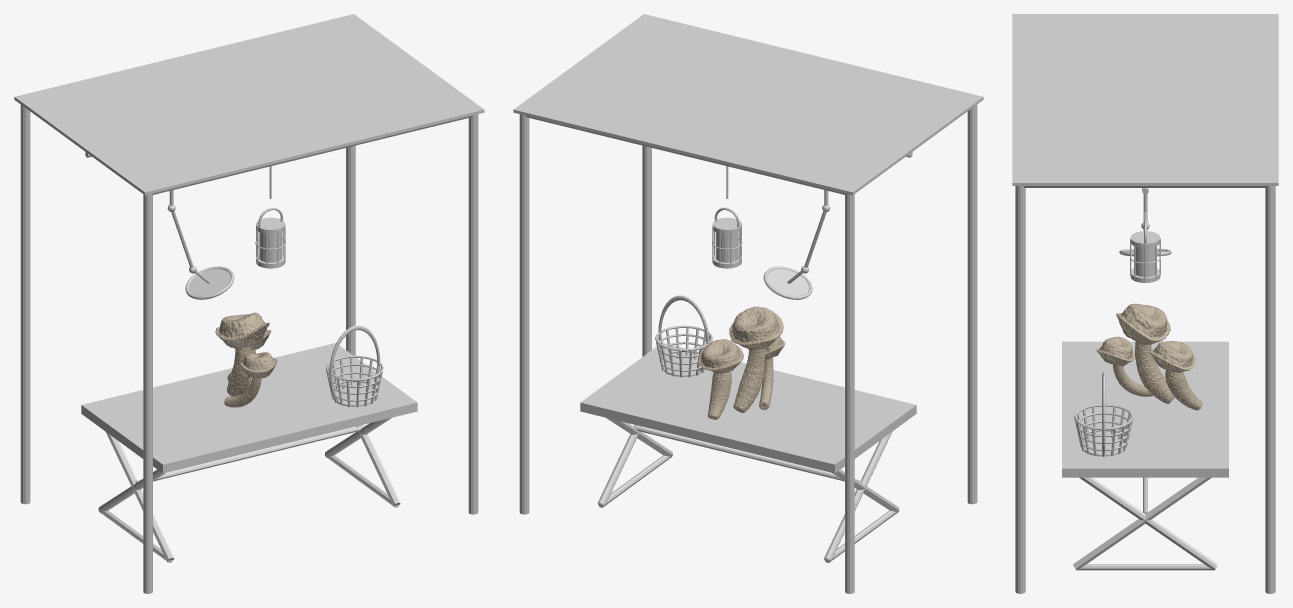
Rendered from 3dcodebench_Mushroom_seed0_L6_Q3__sonnet55.glb.
3 views of the same model, side by side, from view 1: azimuth 30°, elevation 25°; view 2: azimuth 150°, elevation 25°; view 3: azimuth 270°, elevation 25° (orthographic). The views are drawn at different scales.
Visible parts, largest first — view 1: object; view 2: object; view 3: object.
Boxes of the visible parts, x1,y1,x2,y2 form: object: (14,14,484,593); object: (513,14,983,593); object: (1012,14,1278,593).
Size of the model in its own units: 2.4 by 2.75 by 1.6.
